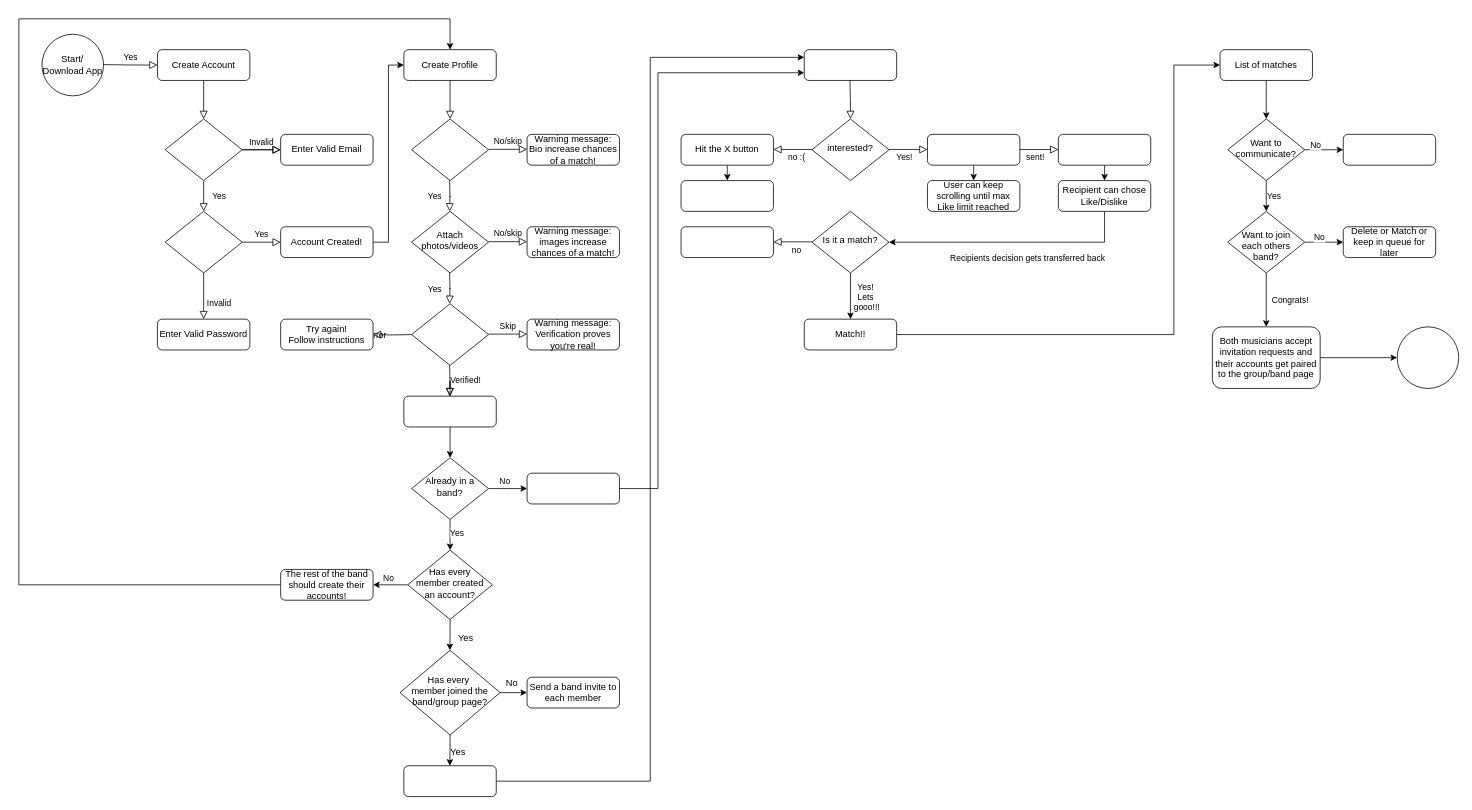
The diagram is 1472 pixels wide and 810 high, and some of its shapes have lost their labels. The shapes that lost their labels are listed below. From the top down, each one's box as (x1, y1, x2, y2) in pixels, then its label:
(803, 49, 897, 80): Browse through other musician/band profiles
(164, 118, 242, 181): Enter Email
(411, 118, 489, 181): Survey questions/update bio
(927, 134, 1020, 165): Hit the Like button
(1058, 134, 1151, 165): Like Notification gets sent to recipient
(1342, 134, 1436, 165): Matches aren't required to reply
(680, 180, 773, 211): User has unlimited Dislikes
(164, 211, 242, 273): Enter Password
(680, 226, 773, 258): Disapproved requests can be deleted or kept in Likes queue
(411, 303, 489, 365): Verify your account
(1396, 326, 1459, 388): End
(403, 395, 496, 427): Verification approval stamp attached to profile
(526, 472, 619, 504): No worries. Skip to browse other musicians profiles
(403, 765, 496, 797): Congrats! you have a band page
